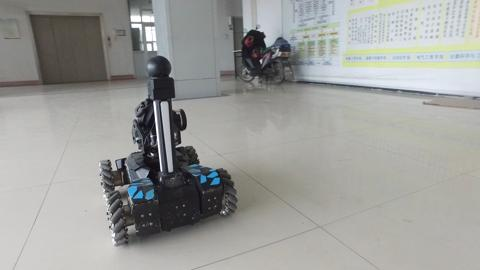chariot: (72, 54, 252, 244)
